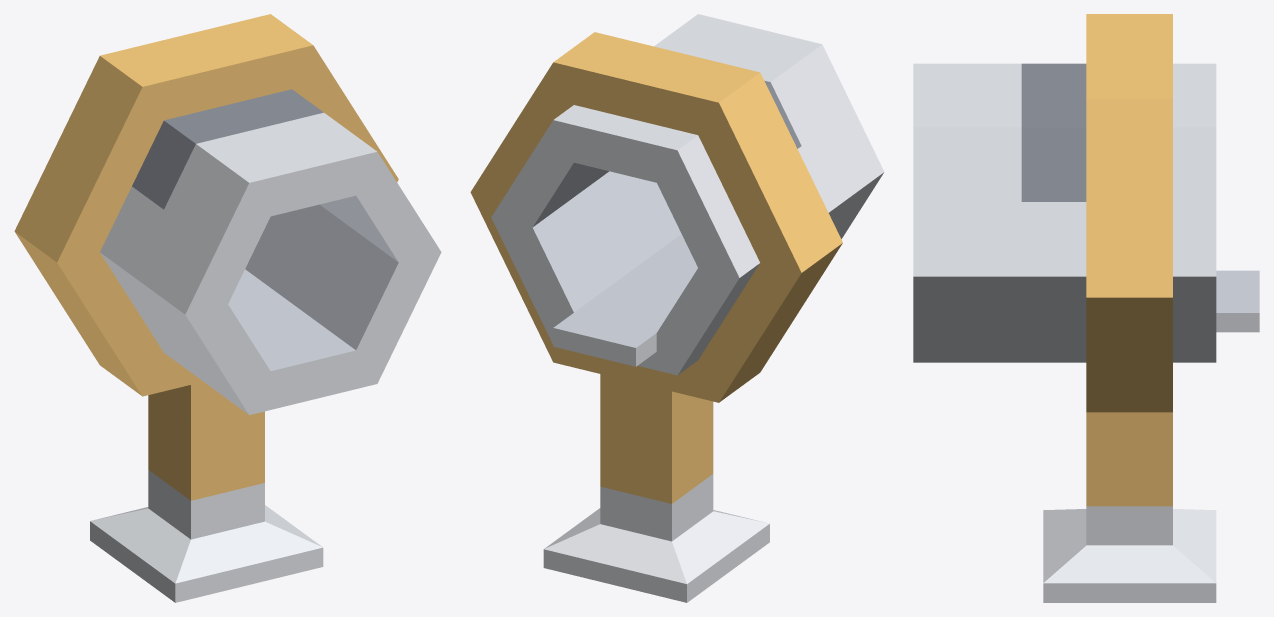
Rendered from pipe_ringHighEnd.glb.
3 renders of one model, left to right at view 1: azimuth 30°, elevation 25°; view 2: azimuth 150°, elevation 25°; view 3: azimuth 270°, elevation 25°, orthographic. The views are drawn at different scales.
Visible parts, largest first — view 1: pipe_ringHighEnd; view 2: pipe_ringHighEnd; view 3: pipe_ringHighEnd.
Part boxes in pixels (x1,y1,x2,y2): pipe_ringHighEnd: [14, 14, 441, 602]; pipe_ringHighEnd: [470, 14, 884, 602]; pipe_ringHighEnd: [913, 14, 1259, 602].
Size of the model in its own units: 0.9238 by 1.3 by 0.8.
Materials: 1 (1 with a texture image).
